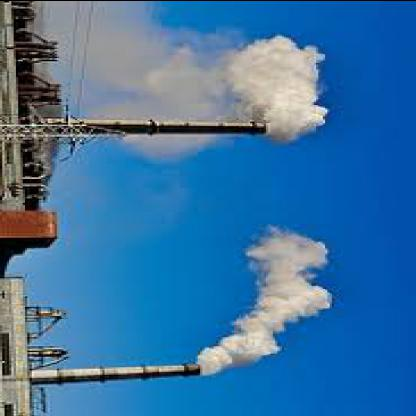Smoke: (202, 220, 338, 380), (100, 33, 217, 114), (244, 34, 322, 134)
